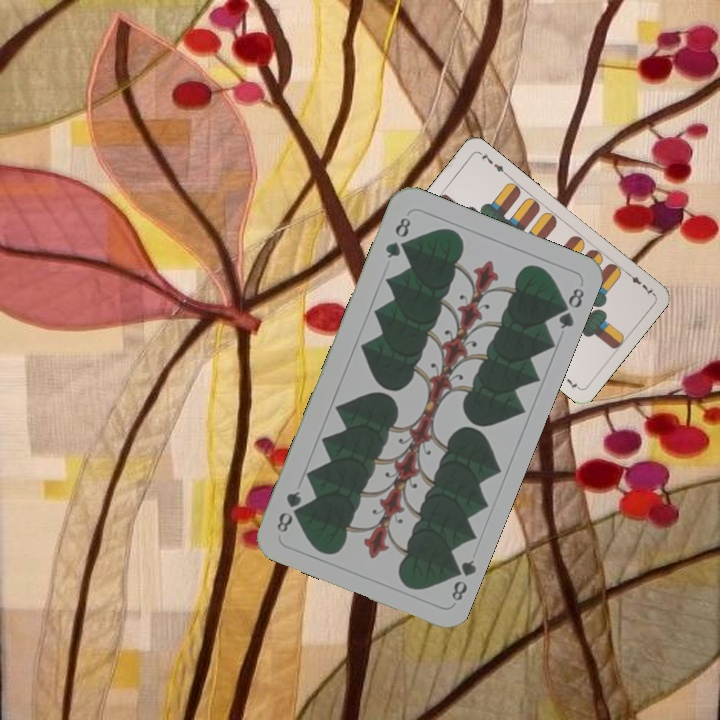E7: (621, 267, 656, 298)
G8: (444, 555, 479, 604), (381, 213, 414, 261)
